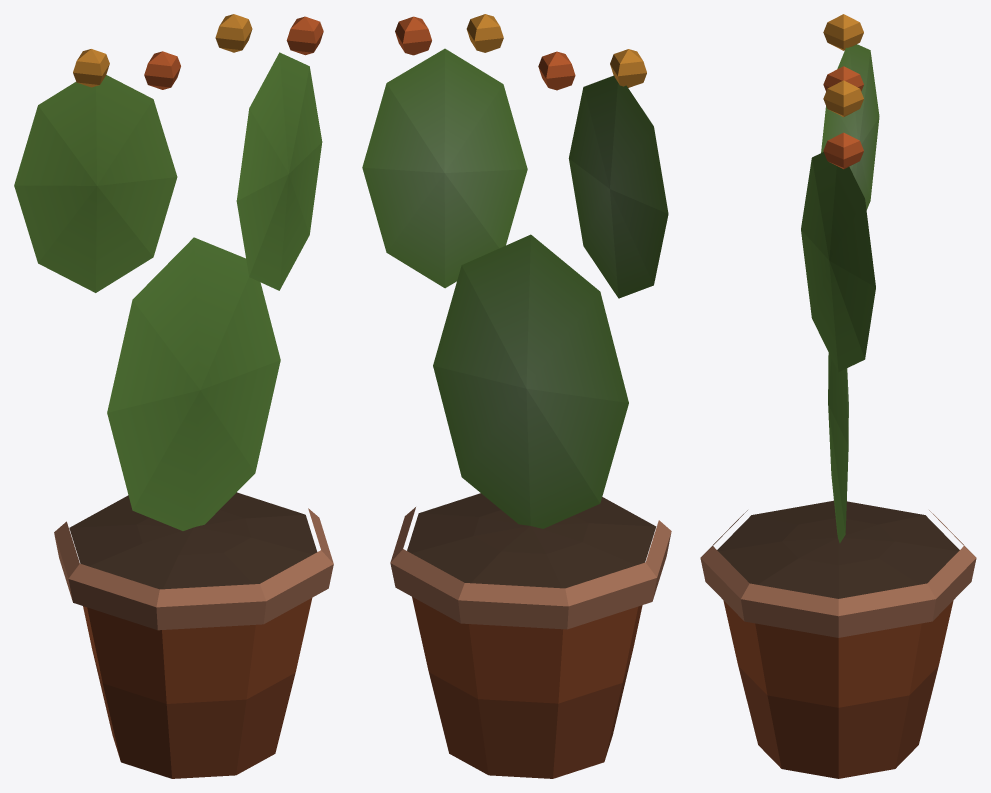
File: pot_cactus.glb
The picture shows the model from 3 angles, left to right: view 1: azimuth 30°, elevation 25°; view 2: azimuth 150°, elevation 25°; view 3: azimuth 270°, elevation 25°; orthographic projection. The views are drawn at different scales.
Parts seen in each view (by area): view 1: pot_cactus; view 2: pot_cactus; view 3: pot_cactus.
Boxes of the visible parts, x1,y1,x2,y2 form: pot_cactus: (14, 14, 333, 778); pot_cactus: (362, 14, 671, 778); pot_cactus: (700, 14, 976, 778).
Size of the model in its own units: 0.6448 by 1.44 by 0.528.
